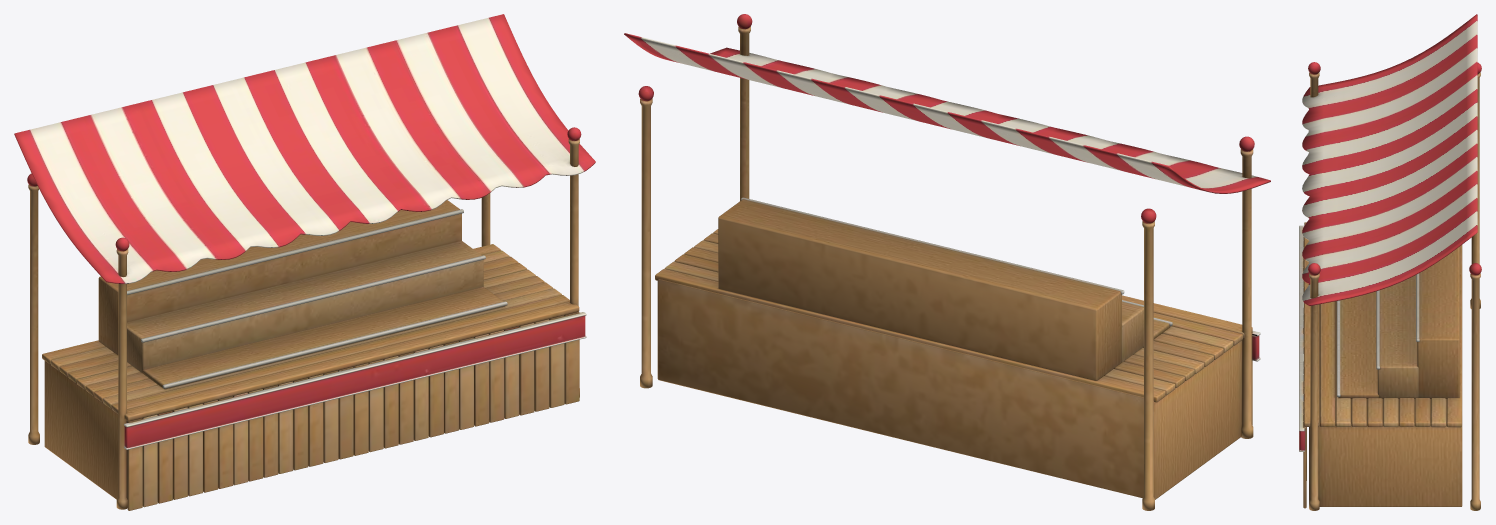
The model's file is stand.glb.
The picture shows the model from 3 angles, left to right: view 1: azimuth 30°, elevation 25°; view 2: azimuth 150°, elevation 25°; view 3: azimuth 270°, elevation 25°; orthographic projection. The views are drawn at different scales.
Parts seen in each view (by area): view 1: stand, awning; view 2: stand, awning; view 3: stand, awning.
Boxes of the visible parts, x1,y1,x2,y2 form: stand: [27, 127, 586, 510]; awning: [14, 14, 595, 283]; stand: [638, 14, 1260, 510]; awning: [624, 33, 1270, 193]; stand: [1299, 62, 1481, 510]; awning: [1302, 14, 1477, 305].
Size of the model in its own units: 19.51 by 11.92 by 6.92.
2 materials, 2 textured.
